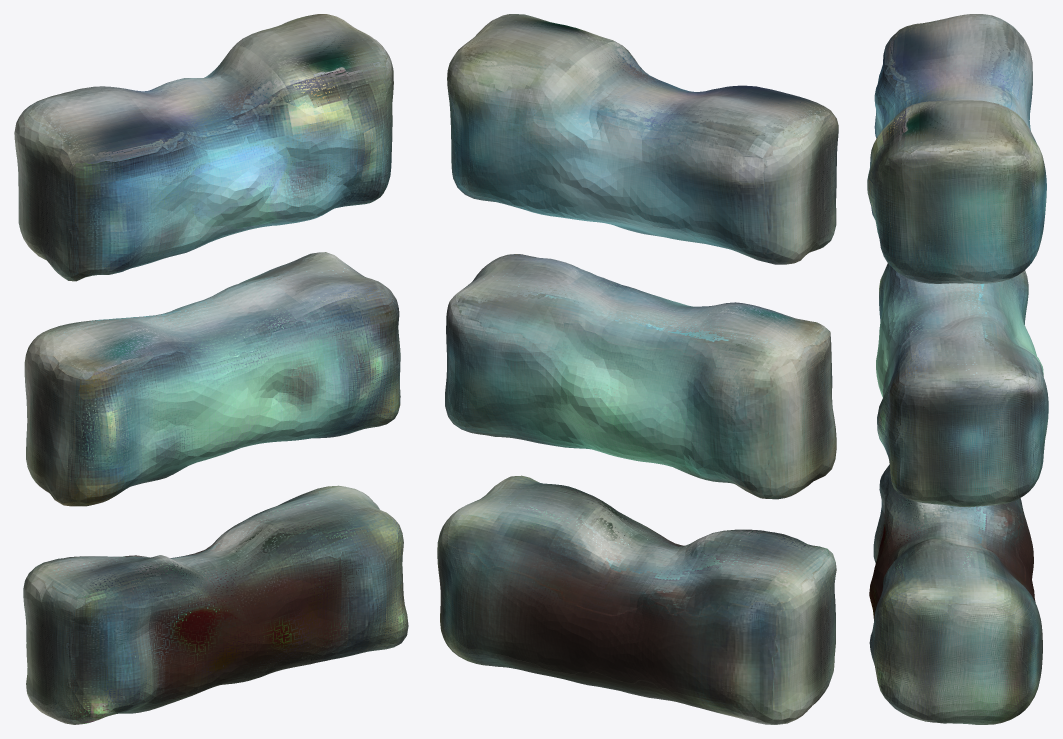
3 views of the same model, side by side, from view 1: azimuth 30°, elevation 25°; view 2: azimuth 150°, elevation 25°; view 3: azimuth 270°, elevation 25° (orthographic). The views are drawn at different scales.
Bounding box in the file's own units: 0.6557 × 1.09 × 0.3045.
Materials: 1 (1 with a texture image).
